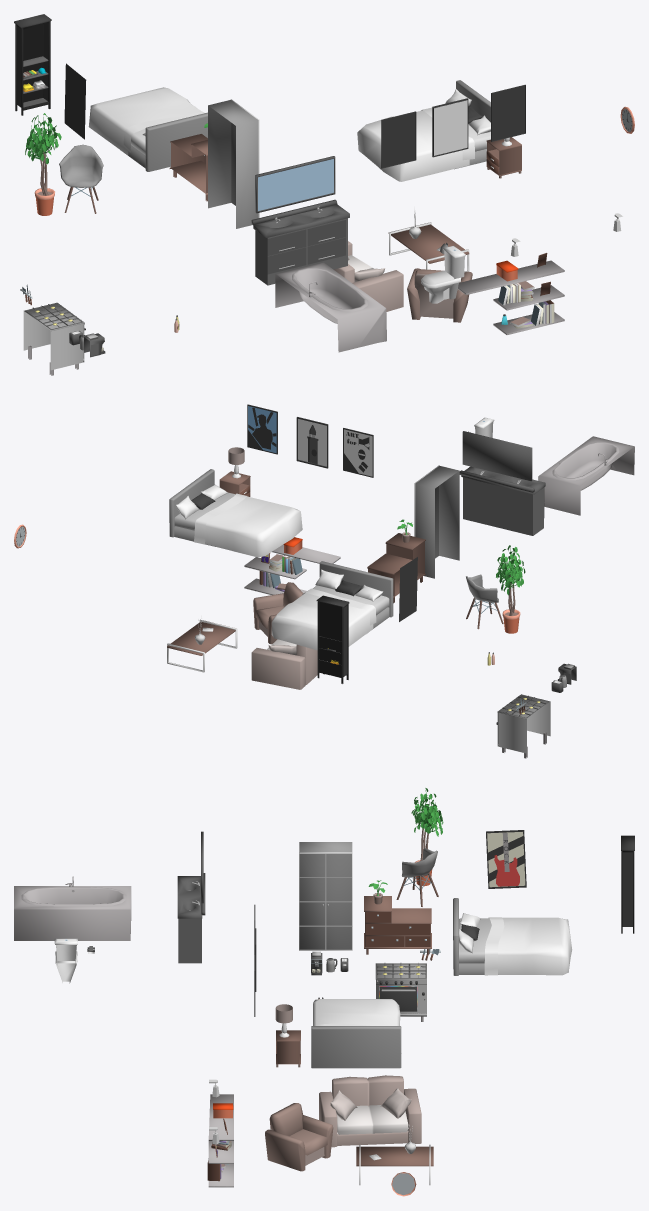
The model's file is furniture.glb.
3 views of the same model, one above another, from view 1: azimuth 30°, elevation 25°; view 2: azimuth 150°, elevation 25°; view 3: azimuth 270°, elevation 25° (orthographic). The views are drawn at different scales.
Parts seen in each view (by area): view 1: Furniture; view 2: Furniture; view 3: Furniture.
Part boxes in pixels (box(x1,y1,x2,y2)): Furniture: box(14, 14, 634, 375); Furniture: box(14, 404, 634, 758); Furniture: box(14, 788, 634, 1196).
Size of the model in its own units: 13.01 by 5.17 by 12.51.
Materials: 1 (1 with a texture image).
